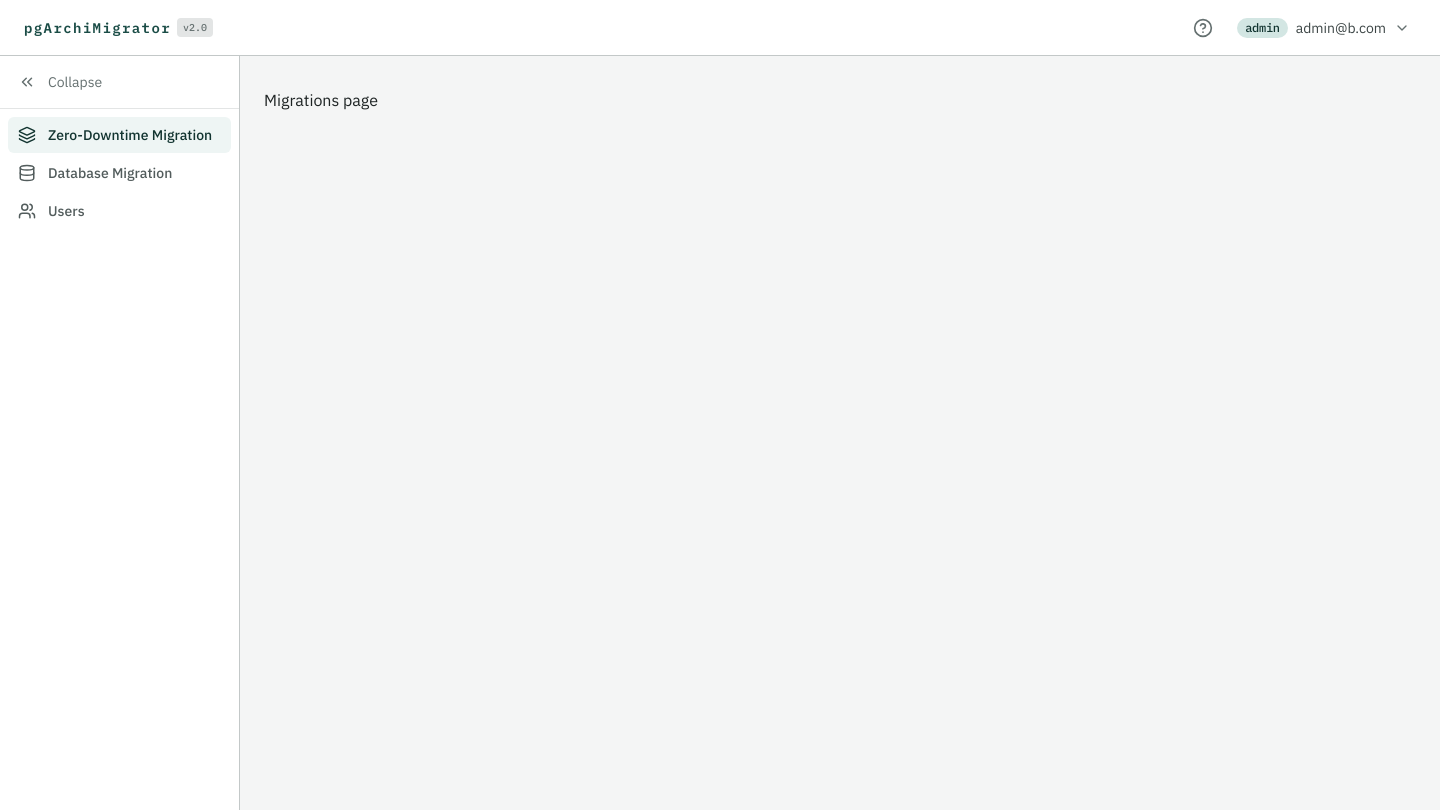
Test: Shell — user menu › opens the menu on click, showing both Switch user and Sign out
Step 1. Click the button "admin admin@b.com" → [1323, 28], box 1229,12 -> 1416,44
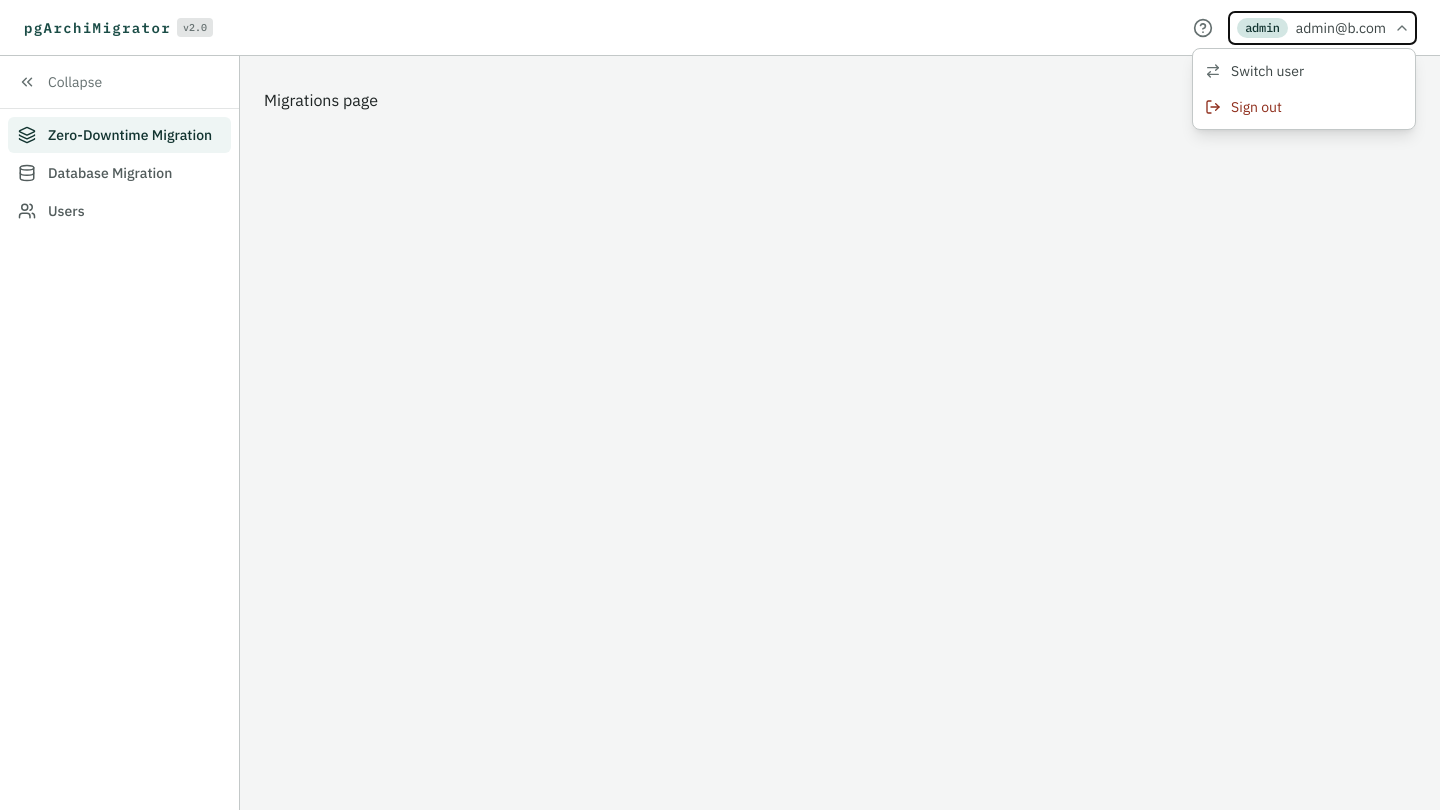
Expected: the menu item "Switch user" is shown, 1193,52 -> 1415,88
Expected: the menu item "Sign out" is shown, 1193,88 -> 1415,124
